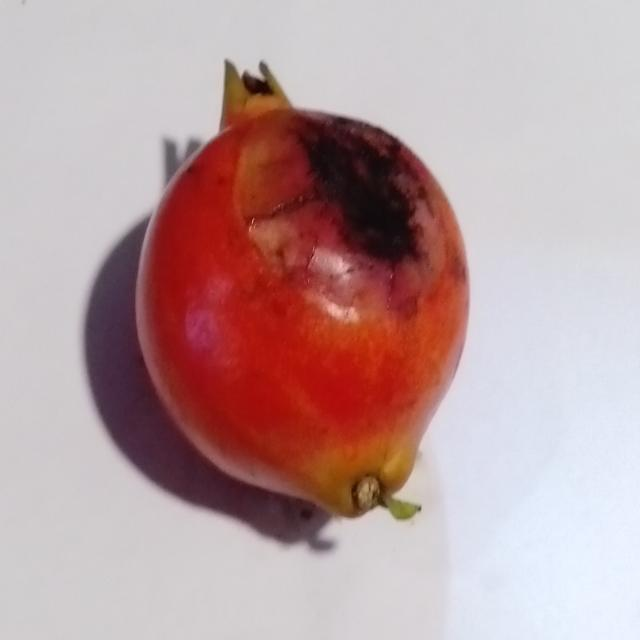Rotten: (135, 56, 476, 525)
